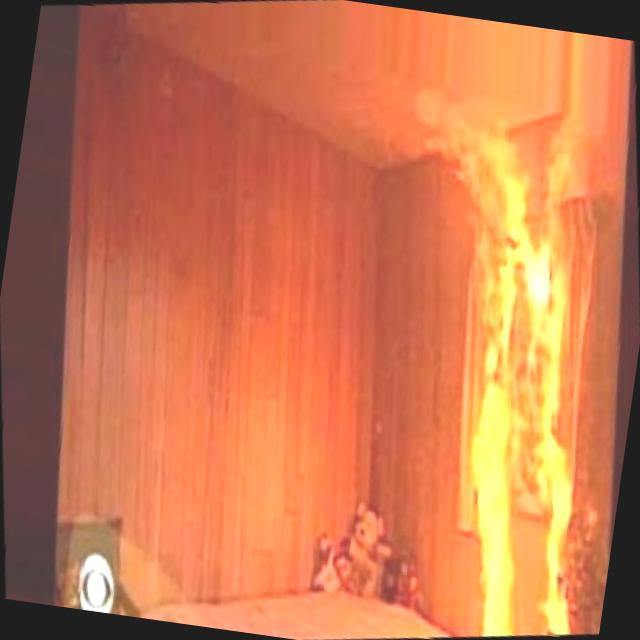fire: (321, 9, 640, 640)
